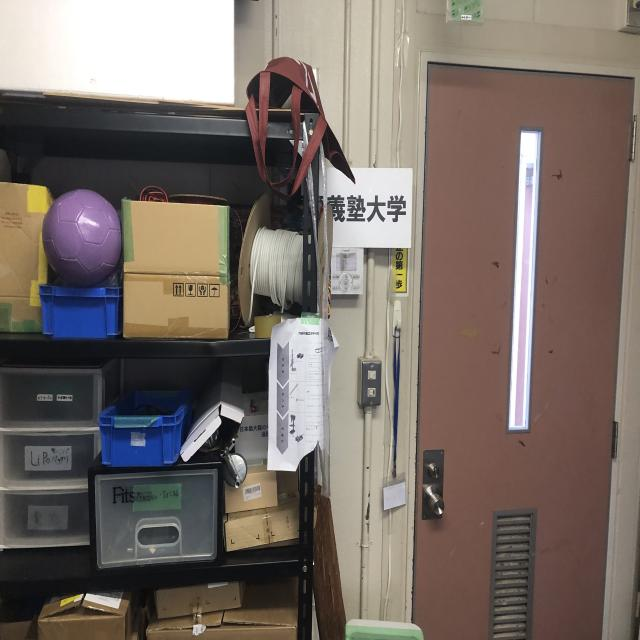purple_ball: (44, 190, 121, 285)
